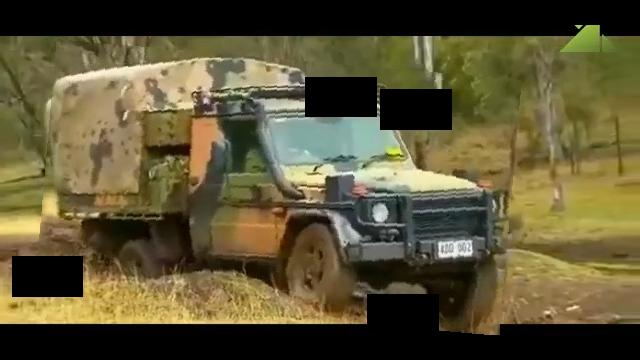MIL_HMMWV: (40, 49, 517, 326)
